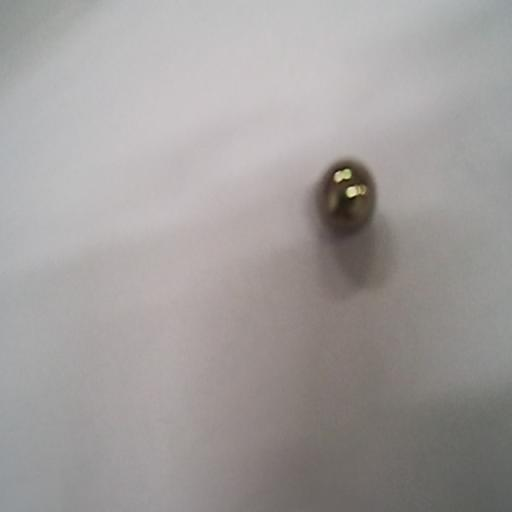steel-ball: (308, 152, 384, 244)
